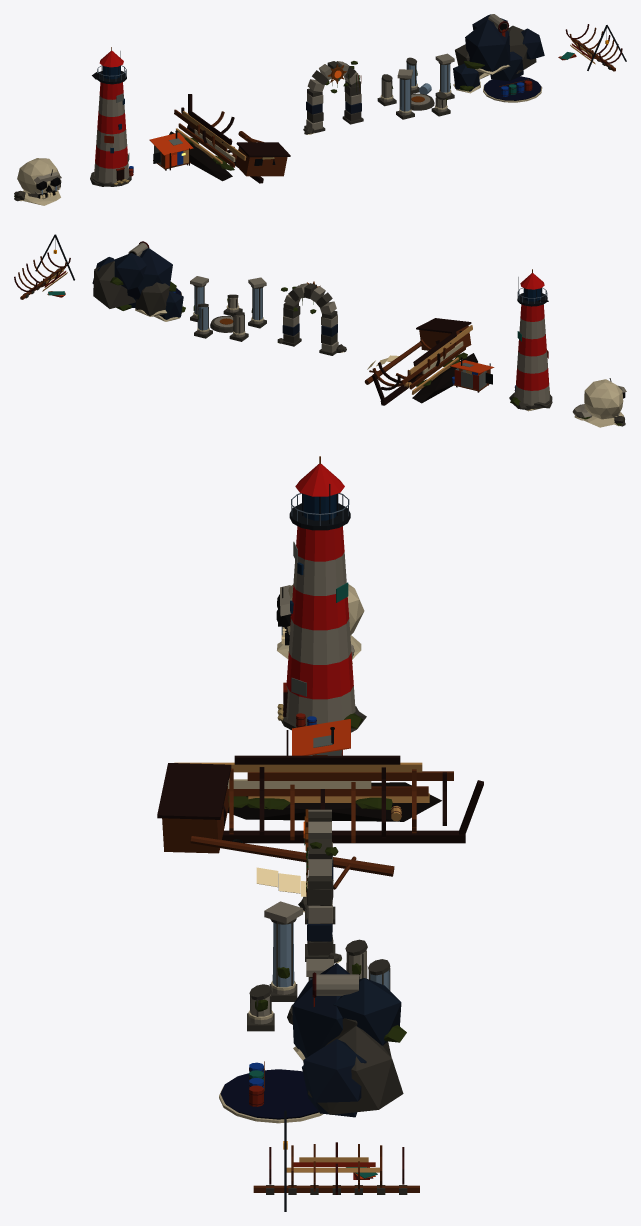
Rendered from tb_landmark_kit.three-web-toon.glb.
The picture shows the model from 3 angles, top to bottom: view 1: azimuth 30°, elevation 25°; view 2: azimuth 150°, elevation 25°; view 3: azimuth 270°, elevation 25°; orthographic projection. The views are drawn at different scales.
Visible parts, largest first — view 1: spring, wreck, lighthouse, pillar_ring, sun_arch, skull_rock, hut, slipway; view 2: spring, wreck, lighthouse, pillar_ring, sun_arch, skull_rock, slipway, hut; view 3: wreck, spring, lighthouse, pillar_ring, sun_arch, slipway, hut, skull_rock.
Part boxes in pixels (x1=…): spring: x1=453, y1=14, x2=544, y2=102; wreck: x1=169, y1=94, x2=290, y2=183; lighthouse: x1=90, y1=47, x2=133, y2=186; pillar_ring: x1=377, y1=53, x2=454, y2=119; sun_arch: x1=303, y1=61, x2=363, y2=134; skull_rock: x1=14, y1=158, x2=61, y2=205; hut: x1=149, y1=130, x2=193, y2=170; slipway: x1=558, y1=24, x2=626, y2=71; spring: x1=92, y1=241, x2=185, y2=321; wreck: x1=364, y1=318, x2=477, y2=405; lighthouse: x1=509, y1=269, x2=552, y2=411; pillar_ring: x1=190, y1=276, x2=266, y2=341; sun_arch: x1=277, y1=281, x2=346, y2=355; skull_rock: x1=572, y1=378, x2=626, y2=427; slipway: x1=14, y1=234, x2=74, y2=299; hut: x1=450, y1=357, x2=494, y2=392; wreck: x1=157, y1=755, x2=483, y2=896; spring: x1=219, y1=963, x2=406, y2=1123; lighthouse: x1=277, y1=456, x2=366, y2=732; pillar_ring: x1=247, y1=901, x2=390, y2=1031; sun_arch: x1=298, y1=809, x2=341, y2=963; slipway: x1=253, y1=1110, x2=419, y2=1211; hut: x1=286, y1=719, x2=350, y2=755; skull_rock: x1=276, y1=584, x2=364, y2=664.
Size of the model in its own units: 100 by 22.37 by 23.58.
